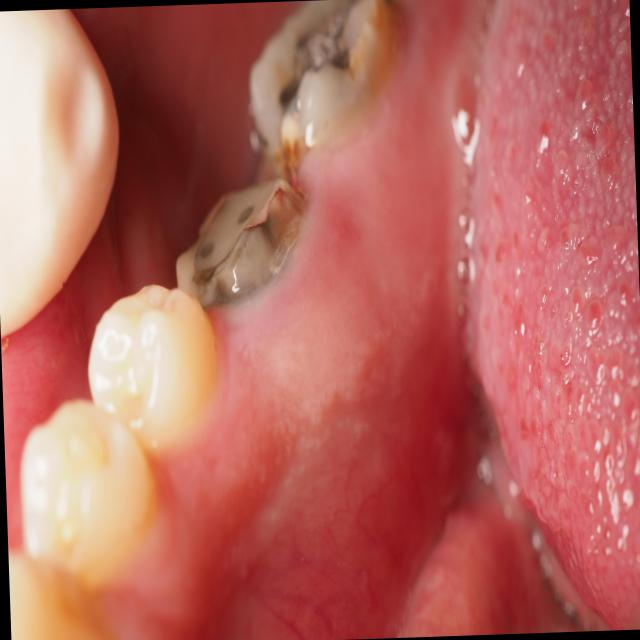Caries: (175, 177, 305, 310), (279, 78, 299, 104), (330, 48, 349, 69)
Tooth: (248, 0, 394, 182), (20, 399, 159, 586), (87, 283, 216, 450)
